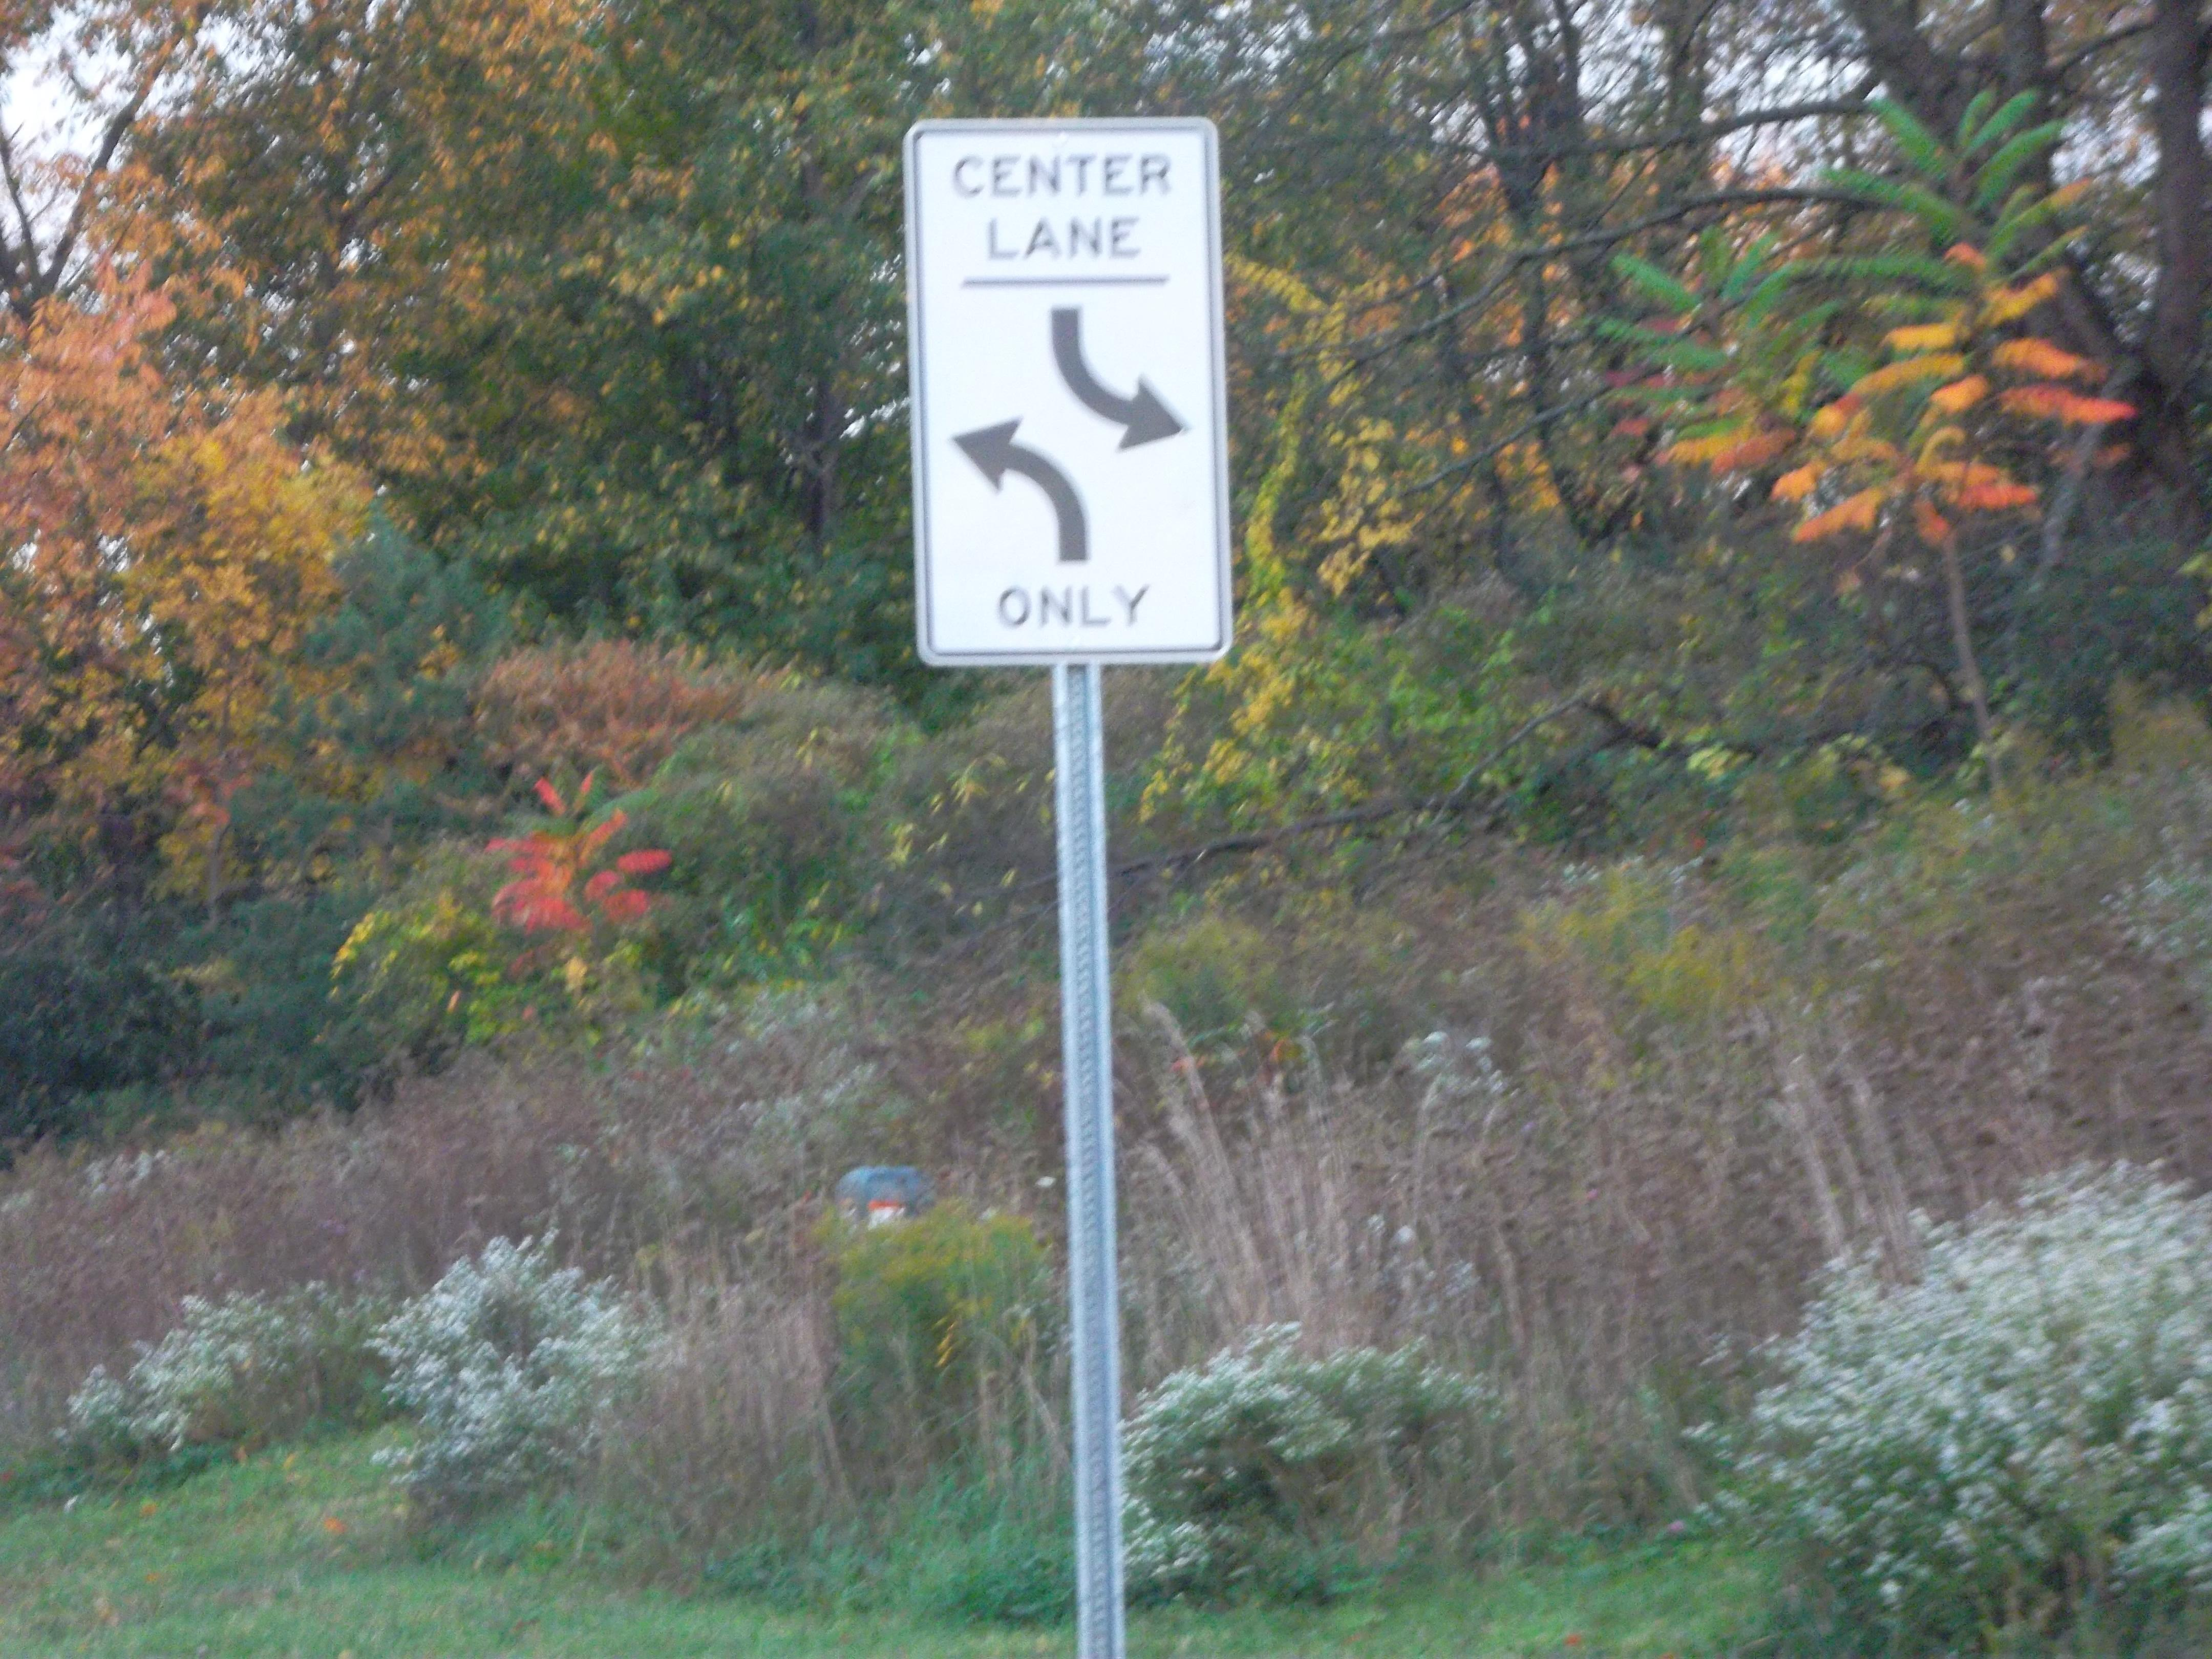regulatory: (904, 108, 1242, 676)
